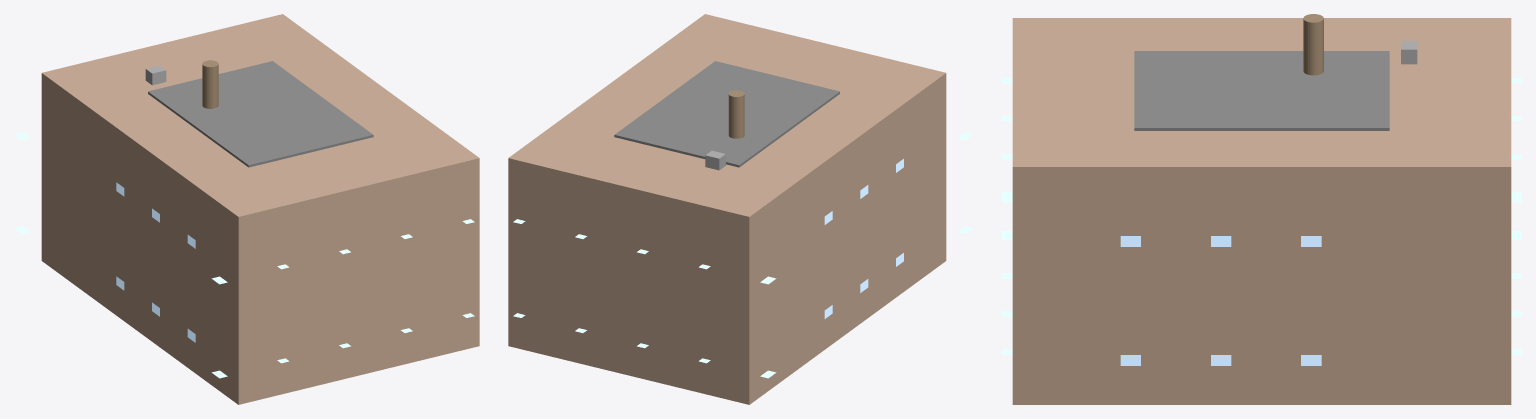
Rendered from residential_6.glb.
The picture shows the model from 3 angles, left to right: view 1: azimuth 30°, elevation 25°; view 2: azimuth 150°, elevation 25°; view 3: azimuth 270°, elevation 25°; orthographic projection. The views are drawn at different scales.
Visible parts, largest first — view 1: residential_6_body, residential_6_roof, residential_6_tower; view 2: residential_6_body, residential_6_roof, residential_6_tower; view 3: residential_6_body, residential_6_roof, residential_6_tower.
Part boxes in pixels (<box>): residential_6_body: <box>41,14,479,404</box>; residential_6_roof: <box>148,61,373,167</box>; residential_6_tower: <box>202,60,218,108</box>; residential_6_body: <box>508,14,946,404</box>; residential_6_roof: <box>614,61,839,167</box>; residential_6_tower: <box>728,90,744,138</box>; residential_6_body: <box>1012,18,1511,404</box>; residential_6_roof: <box>1134,51,1389,130</box>; residential_6_tower: <box>1303,14,1323,75</box>.
Bounding box in the file's own units: 9.43 × 7.95 × 12.67.
